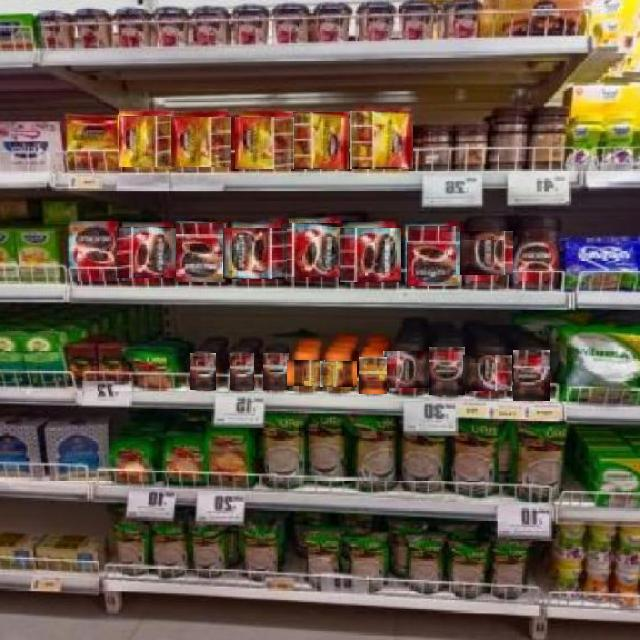Coffee: (350, 112, 413, 169), (280, 224, 343, 277), (340, 228, 401, 282), (223, 228, 287, 279), (292, 112, 349, 169), (406, 226, 460, 286), (450, 230, 521, 275), (116, 115, 176, 167), (174, 222, 226, 282), (236, 116, 294, 169), (171, 117, 231, 167), (68, 222, 118, 282), (116, 228, 176, 278), (513, 219, 557, 287), (69, 115, 119, 172), (512, 349, 550, 401), (382, 352, 433, 388), (429, 347, 465, 395), (464, 355, 512, 391), (358, 357, 387, 394), (262, 352, 289, 390), (190, 352, 216, 390), (288, 360, 325, 386), (320, 361, 357, 387), (229, 352, 254, 390)
